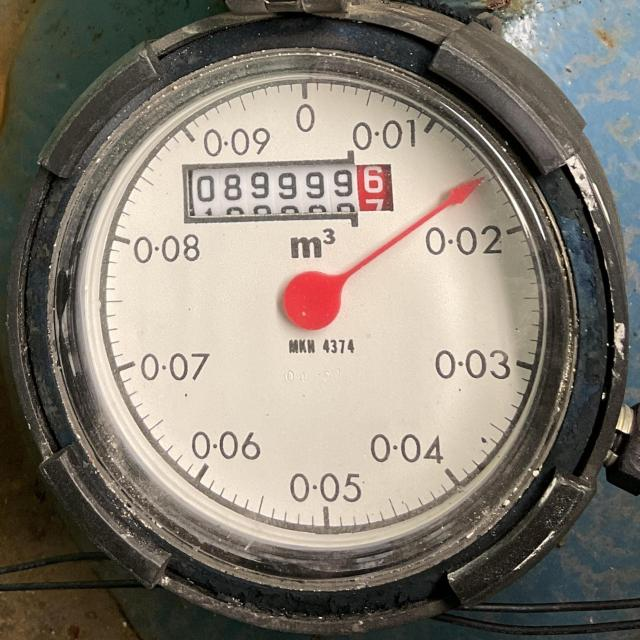gaz_meter: (72, 76, 550, 548)
indication: (186, 162, 396, 218)
